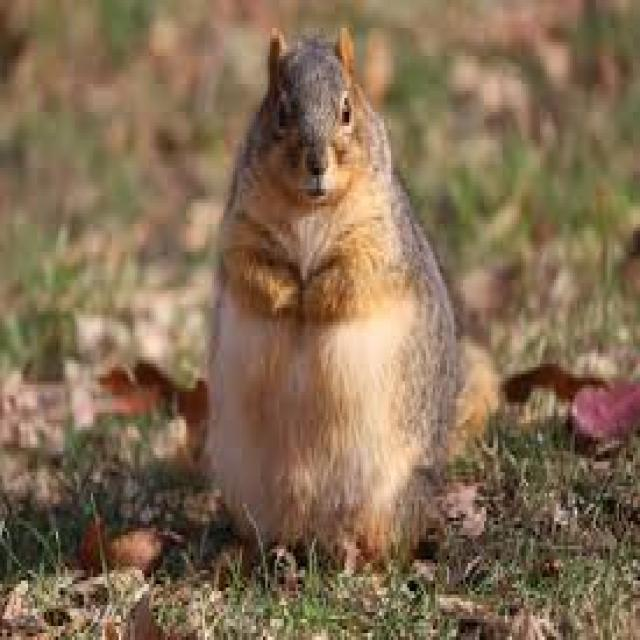Squirrel: (192, 26, 465, 550)
